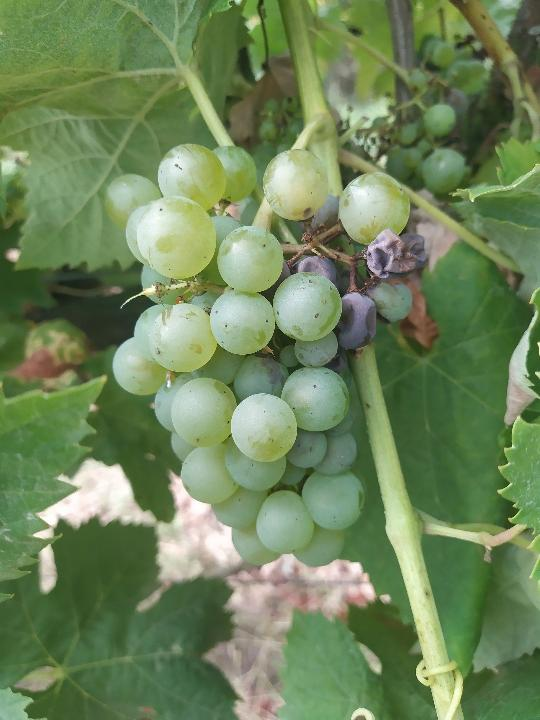grape: (110, 139, 431, 570)
